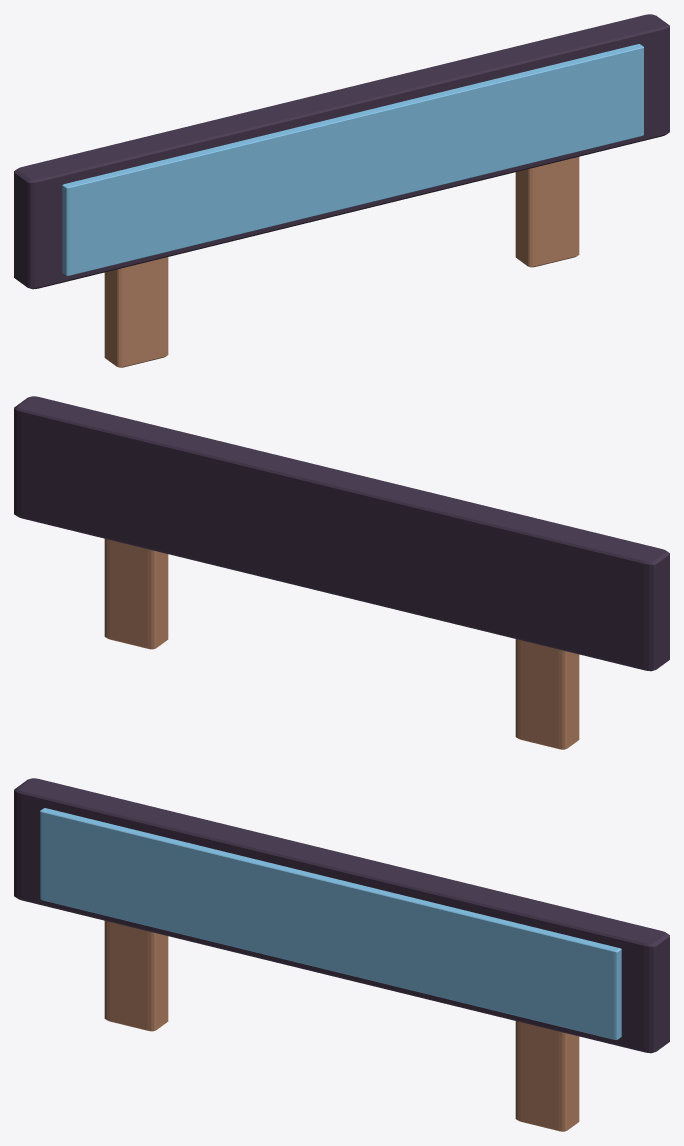
File: delivery_sign.glb
3 views of the same model, one above another, from view 1: azimuth 30°, elevation 25°; view 2: azimuth 150°, elevation 25°; view 3: azimuth 330°, elevation 25° (orthographic).
Parts seen in each view (by area): view 1: panel, frame, model; view 2: frame, model; view 3: panel, frame, model.
Part boxes in pixels (box(x1,y1,x2,y2)): panel: box(62, 44, 643, 275); frame: box(14, 14, 669, 289); model: box(104, 157, 579, 367); frame: box(14, 396, 669, 671); model: box(104, 539, 579, 749); panel: box(40, 808, 621, 1039); frame: box(14, 778, 669, 1053); model: box(104, 921, 579, 1131).
Bounding box in the file's own units: 1.6 × 0.5 × 0.1.
